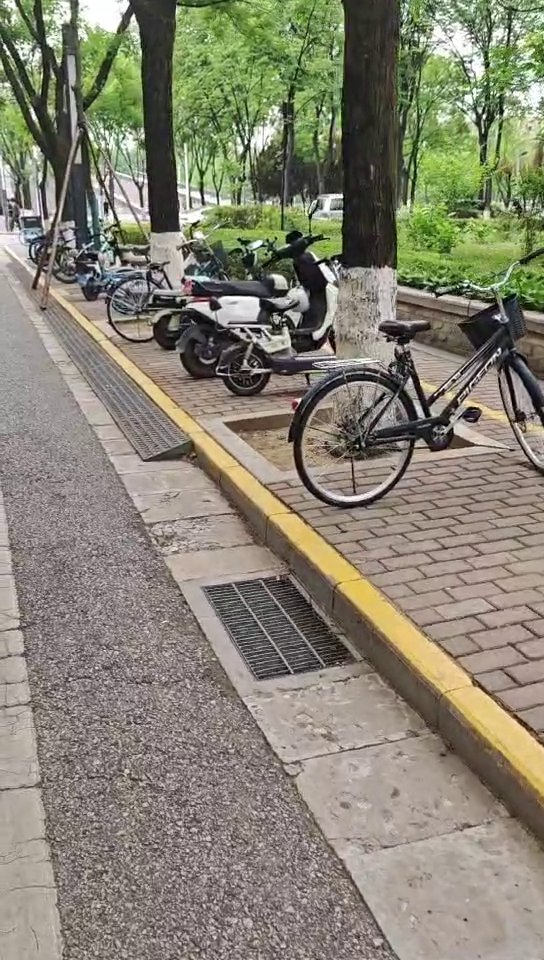others: (290, 251, 544, 535), (171, 239, 358, 385), (195, 267, 344, 382)
